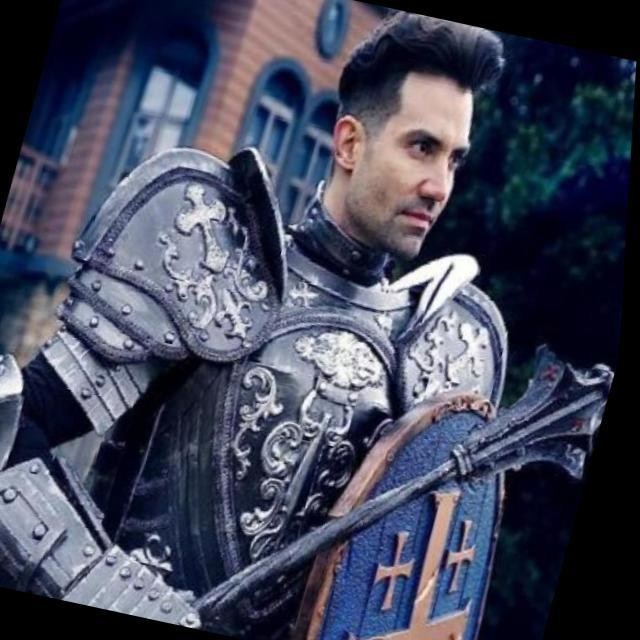weapon: (184, 285, 625, 640)
